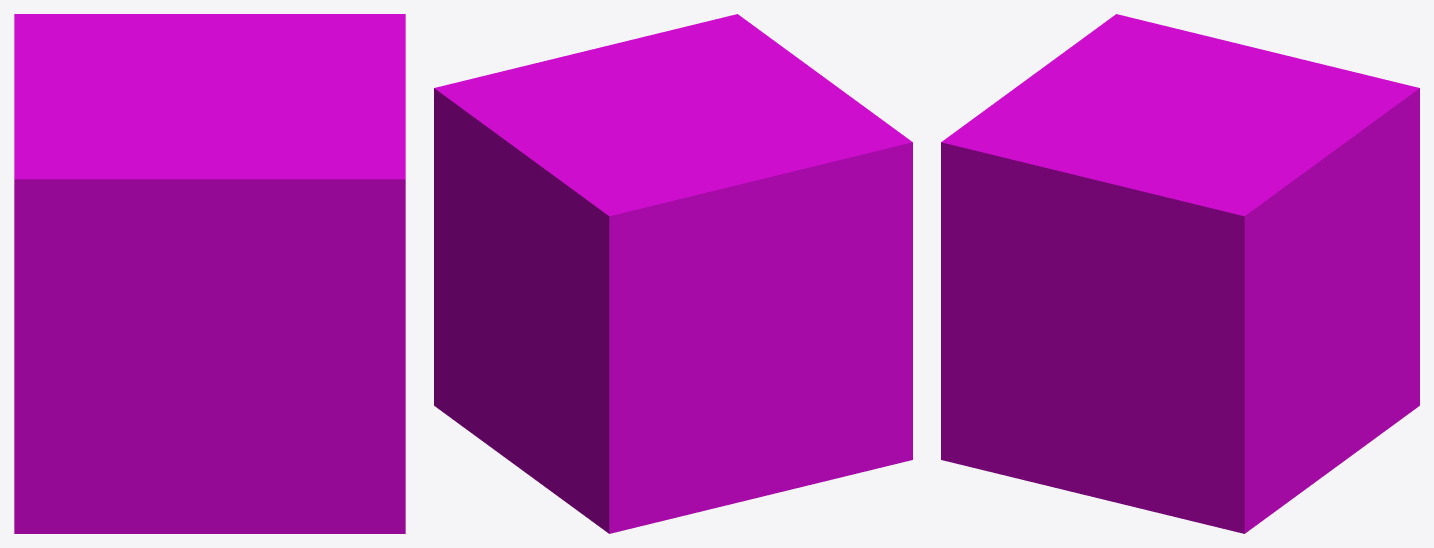
File: _ANM_WeaponPartOnIsland.fbx
3 views of the same model, side by side, from view 1: azimuth 30°, elevation 25°; view 2: azimuth 150°, elevation 25°; view 3: azimuth 270°, elevation 25° (orthographic). The views are drawn at different scales.
Visible parts, largest first — view 1: PL_WeaponPart; view 2: PL_WeaponPart; view 3: PL_WeaponPart.
Part boxes in pixels (x1=…): PL_WeaponPart: x1=14, y1=14, x2=405, y2=533; PL_WeaponPart: x1=434, y1=14, x2=912, y2=533; PL_WeaponPart: x1=941, y1=14, x2=1419, y2=533.
Size of the model in its own units: 3.52 by 2.58 by 3.52.
